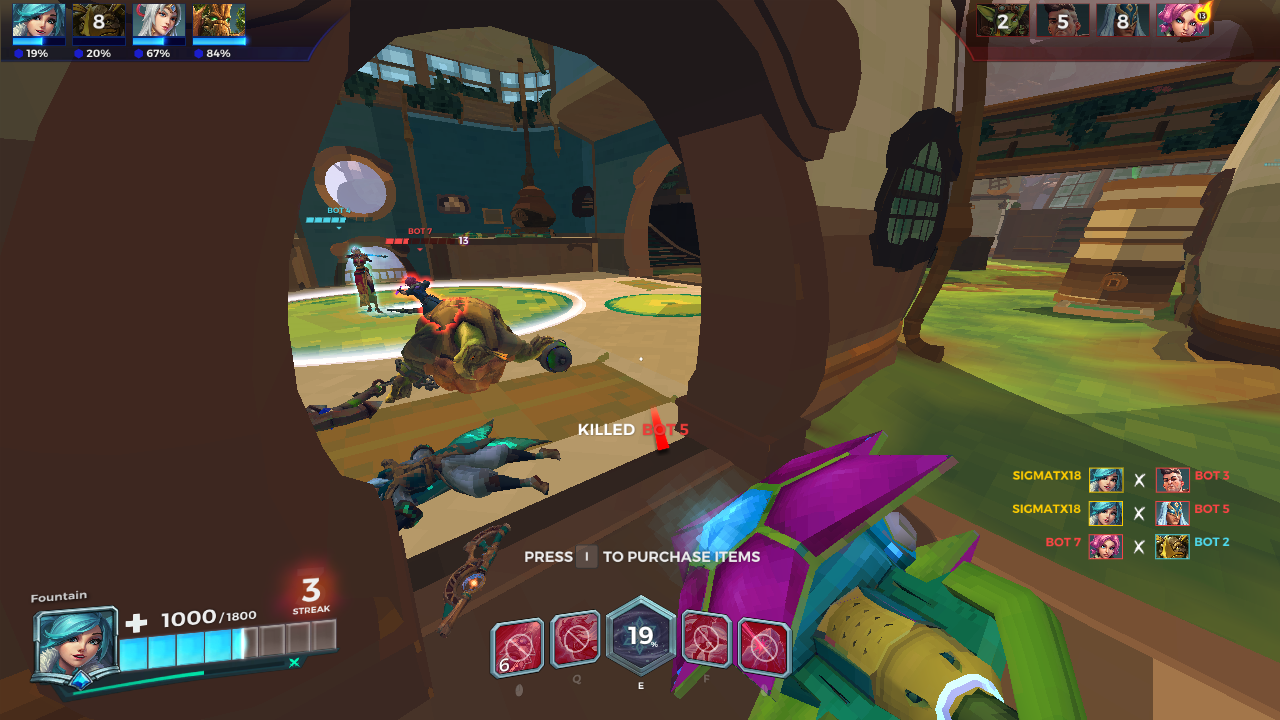model: (392, 274, 471, 334)
